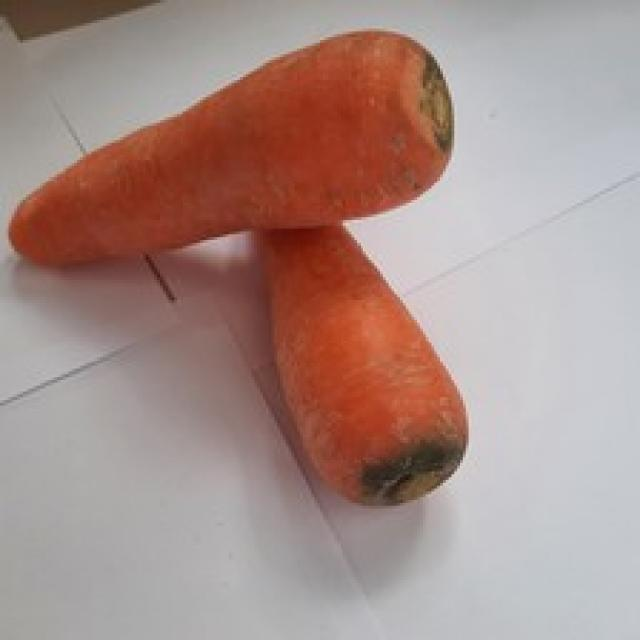carrot: (7, 24, 457, 268), (254, 223, 472, 510)
